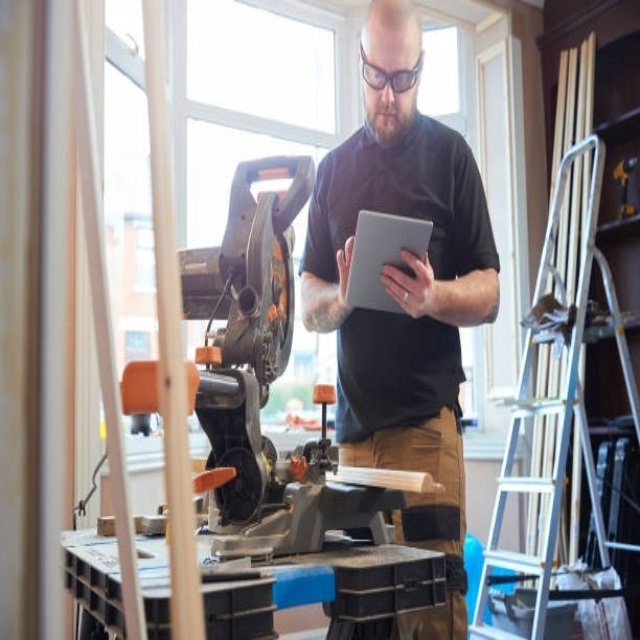Gafas: (360, 38, 423, 93)
Sin_guantes: (379, 246, 435, 321)
Sin_mascara: (372, 104, 399, 138)
